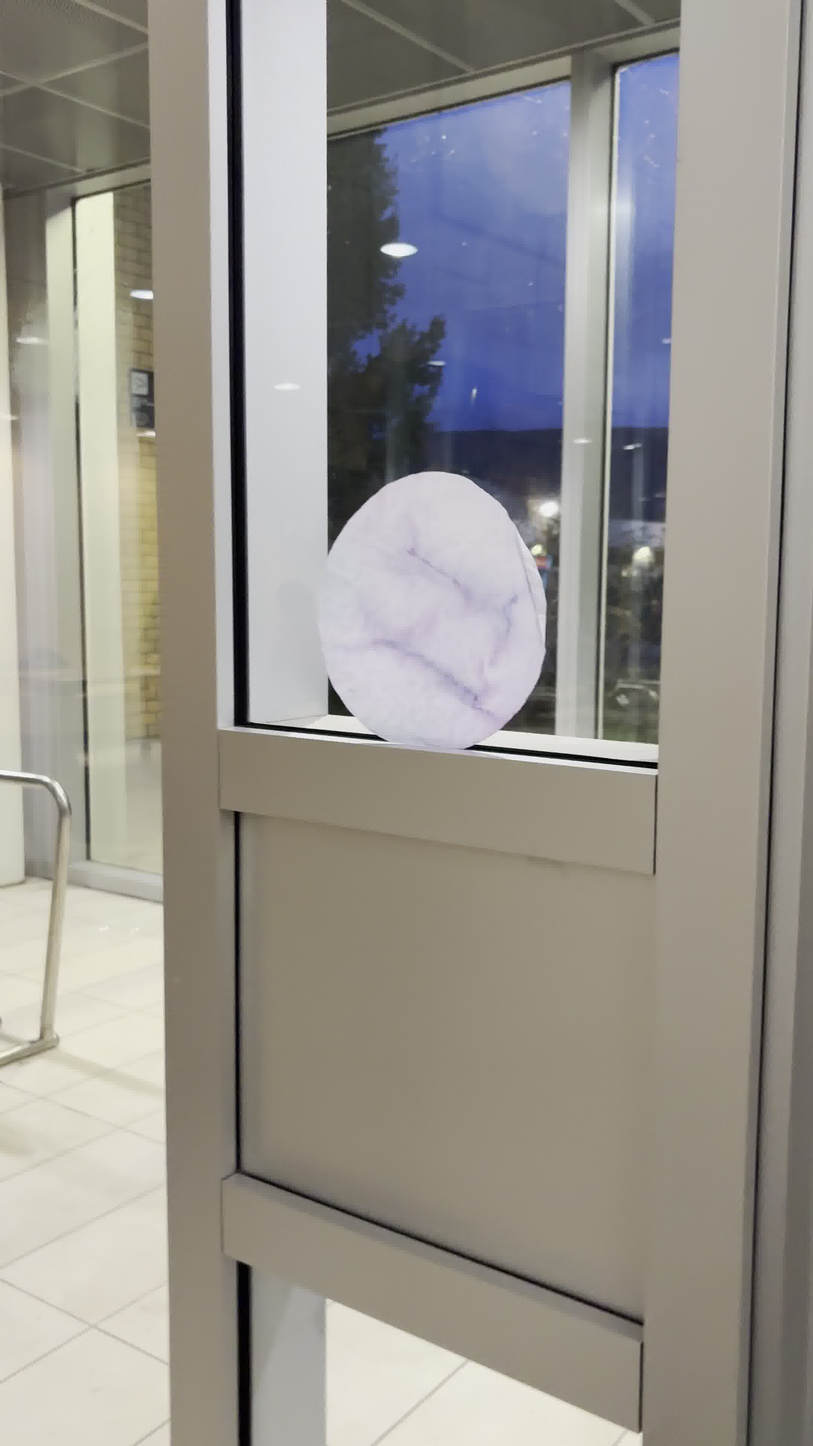Target: (316, 466, 548, 759)
